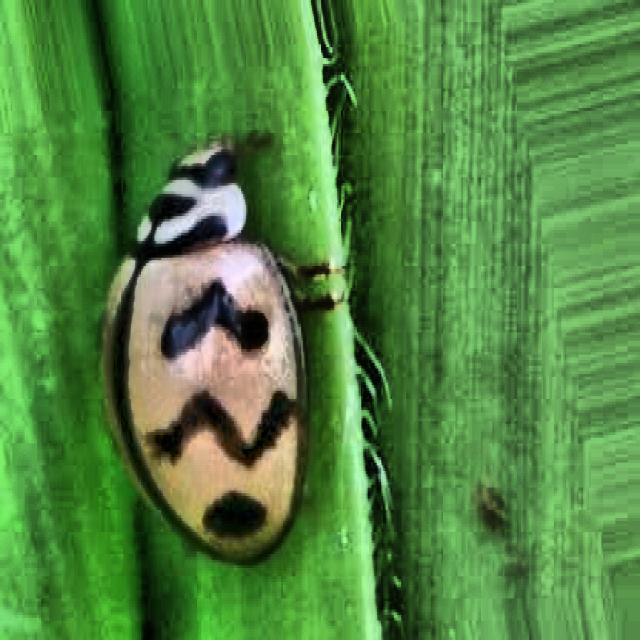Asian-Lady-beetle: (66, 86, 386, 583)
